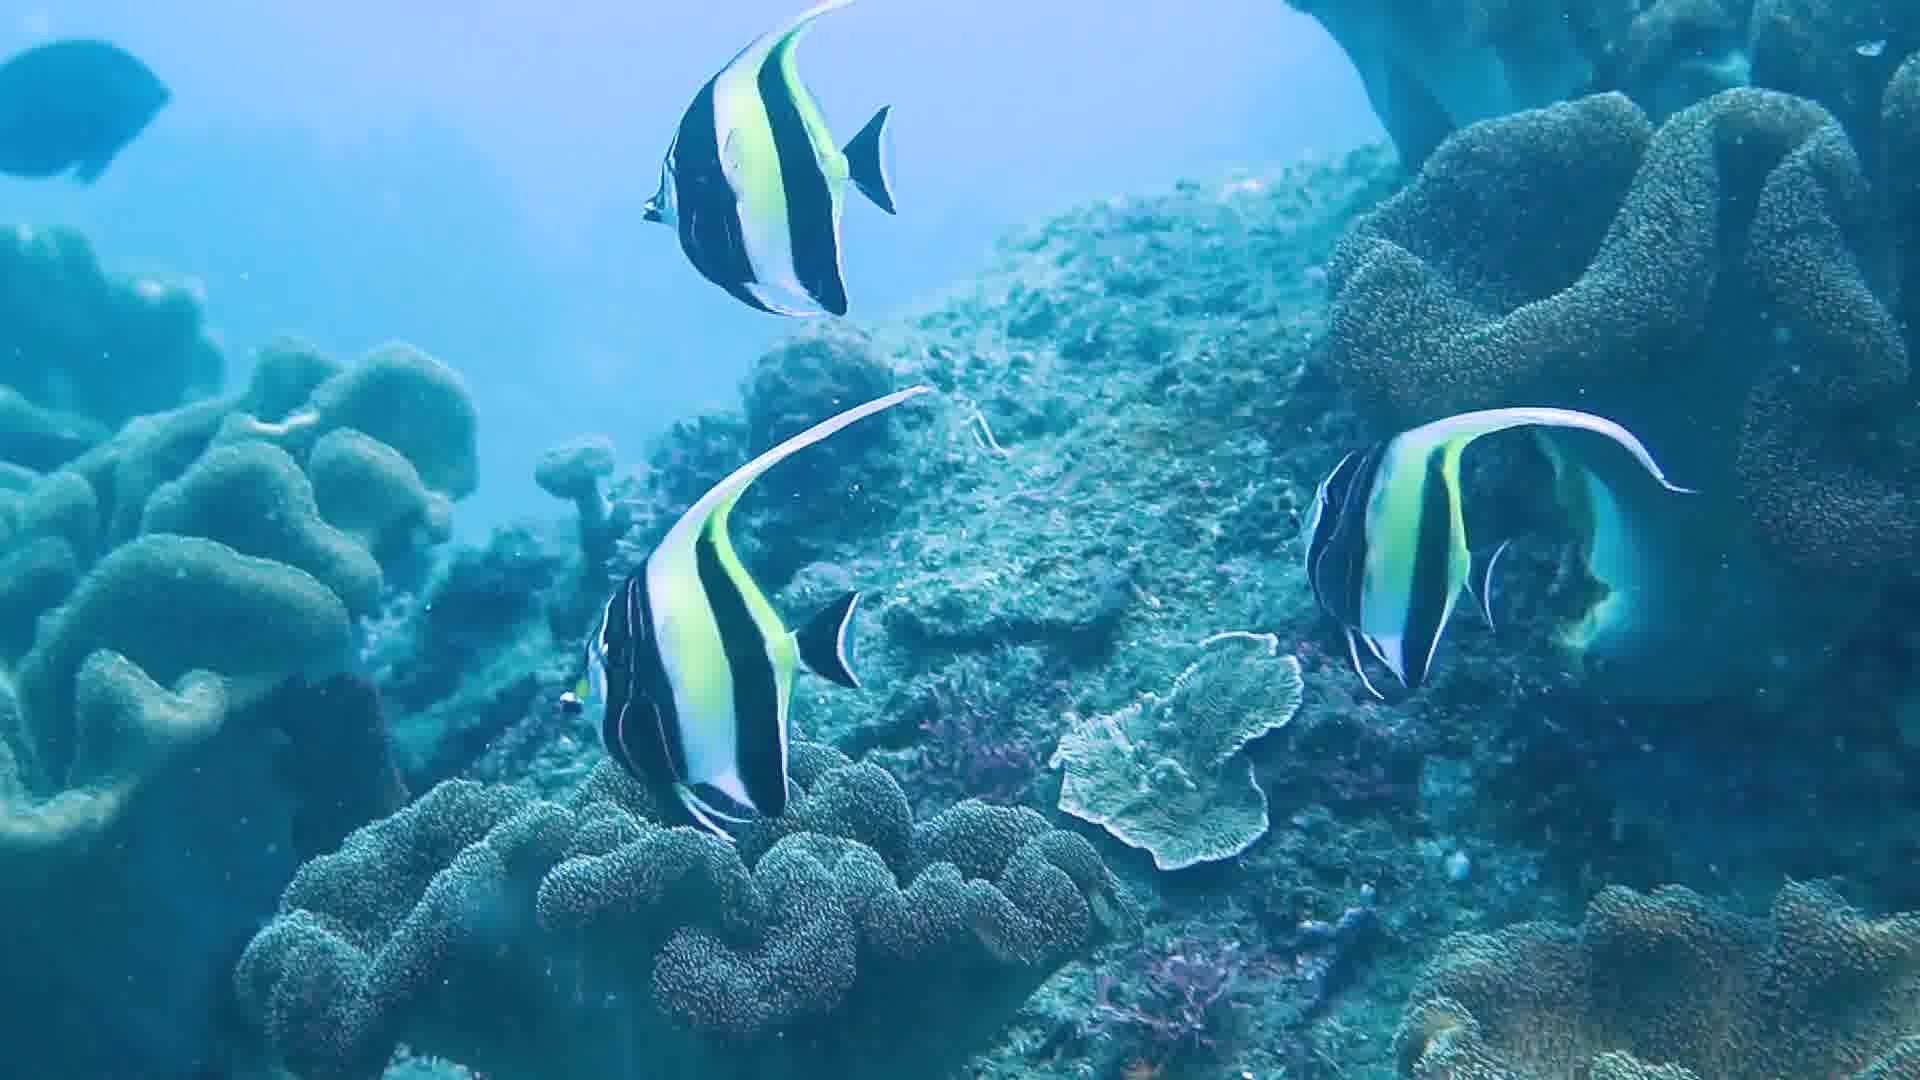Zanclus cornutus: (553, 473, 866, 833), (1279, 390, 1577, 709), (638, 46, 930, 322)
